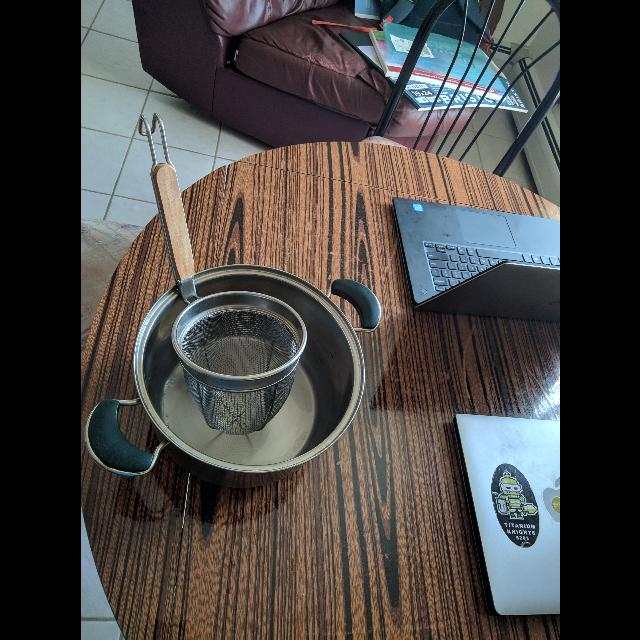Handle: (130, 109, 207, 304)
Strainer: (169, 288, 309, 386)
